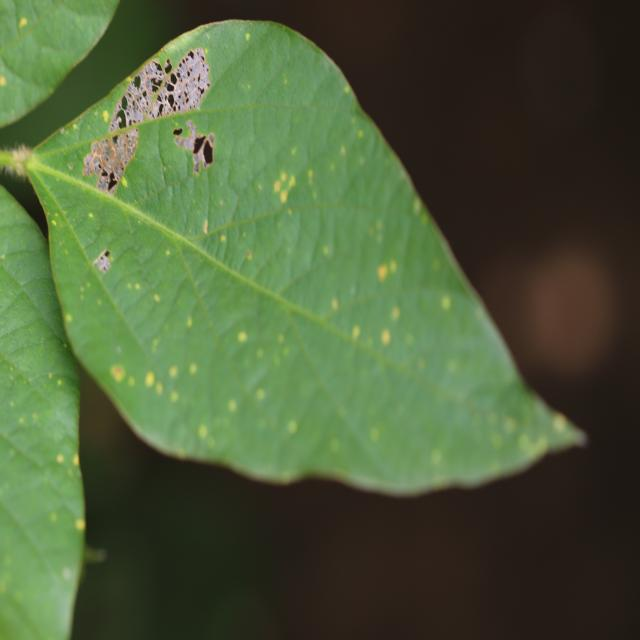Soybean: (21, 19, 589, 500)
downey_mildew: (117, 322, 226, 433), (13, 442, 84, 596), (355, 249, 440, 368), (225, 319, 300, 422), (178, 113, 242, 197), (469, 397, 548, 464), (267, 161, 336, 230), (156, 48, 210, 117), (82, 131, 139, 195), (113, 65, 160, 132), (173, 119, 215, 173), (1, 142, 34, 177), (112, 93, 136, 131), (91, 138, 116, 173), (274, 170, 298, 204), (83, 146, 103, 178), (146, 61, 166, 90), (93, 248, 112, 274), (377, 259, 396, 281), (164, 77, 178, 98), (96, 172, 110, 193), (553, 413, 568, 431), (109, 113, 120, 134), (111, 364, 124, 380), (431, 449, 442, 465), (145, 371, 155, 387), (329, 438, 340, 452), (370, 428, 380, 442), (168, 365, 178, 378), (351, 325, 360, 339), (237, 331, 247, 343), (432, 258, 441, 271), (164, 61, 173, 74), (0, 578, 7, 593), (414, 198, 421, 212), (189, 363, 197, 375), (331, 297, 338, 310), (288, 174, 295, 187), (19, 18, 28, 28), (274, 180, 281, 192), (72, 454, 79, 466), (279, 171, 287, 181), (186, 317, 193, 328), (156, 383, 163, 394), (307, 169, 313, 181), (56, 454, 64, 463), (102, 110, 108, 122), (153, 293, 160, 303), (128, 377, 135, 387), (0, 76, 7, 86), (278, 334, 285, 344), (257, 348, 264, 358), (65, 314, 72, 323), (357, 129, 364, 138), (344, 85, 351, 94), (340, 145, 346, 155), (246, 250, 252, 260), (291, 146, 297, 155), (204, 220, 208, 233), (220, 234, 226, 242), (51, 219, 57, 226), (60, 128, 66, 135), (19, 417, 25, 424), (165, 248, 170, 256), (135, 282, 140, 290), (245, 33, 250, 41), (88, 212, 94, 218), (57, 379, 62, 386), (128, 75, 133, 82), (73, 123, 78, 129), (1, 254, 6, 260), (204, 48, 208, 55), (247, 84, 251, 90), (206, 33, 210, 39)
